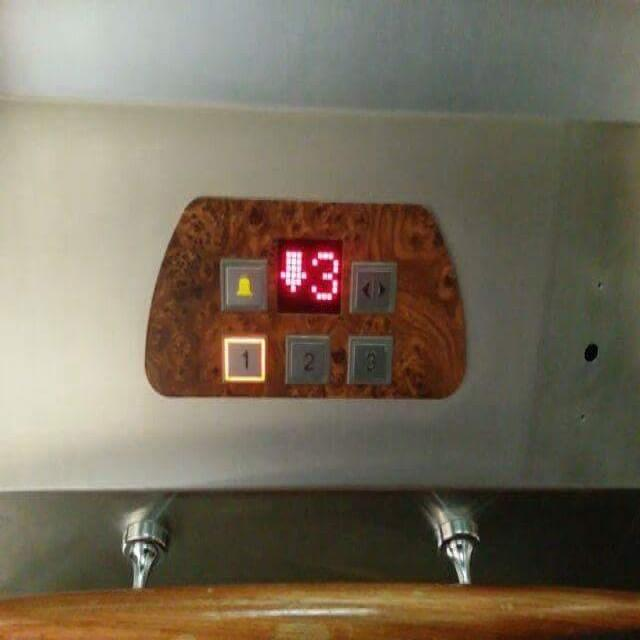1: (221, 332, 267, 383)
2: (284, 334, 329, 386)
3: (347, 333, 392, 387)
alarm: (216, 252, 268, 315)
led: (273, 232, 345, 316)
open: (350, 258, 397, 314)
